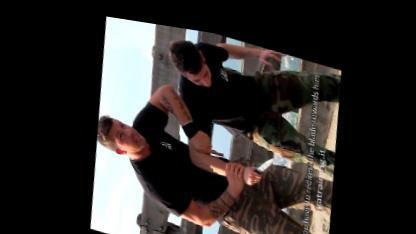knife: (240, 138, 276, 184)
